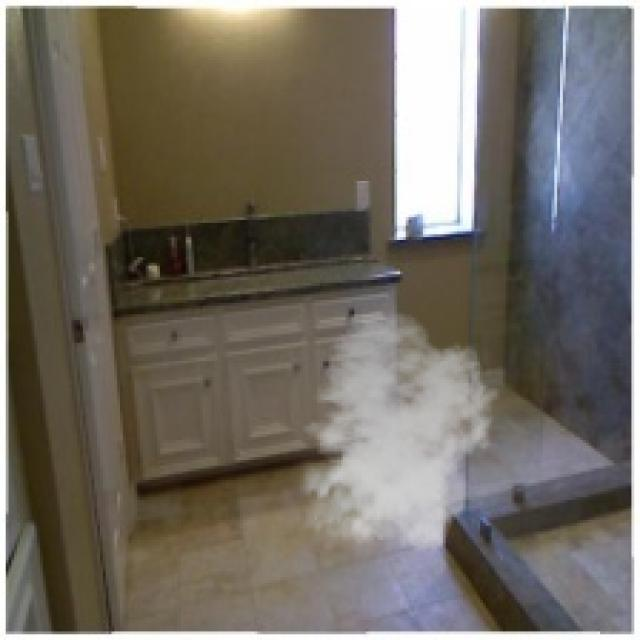smoke: (289, 311, 500, 560)
